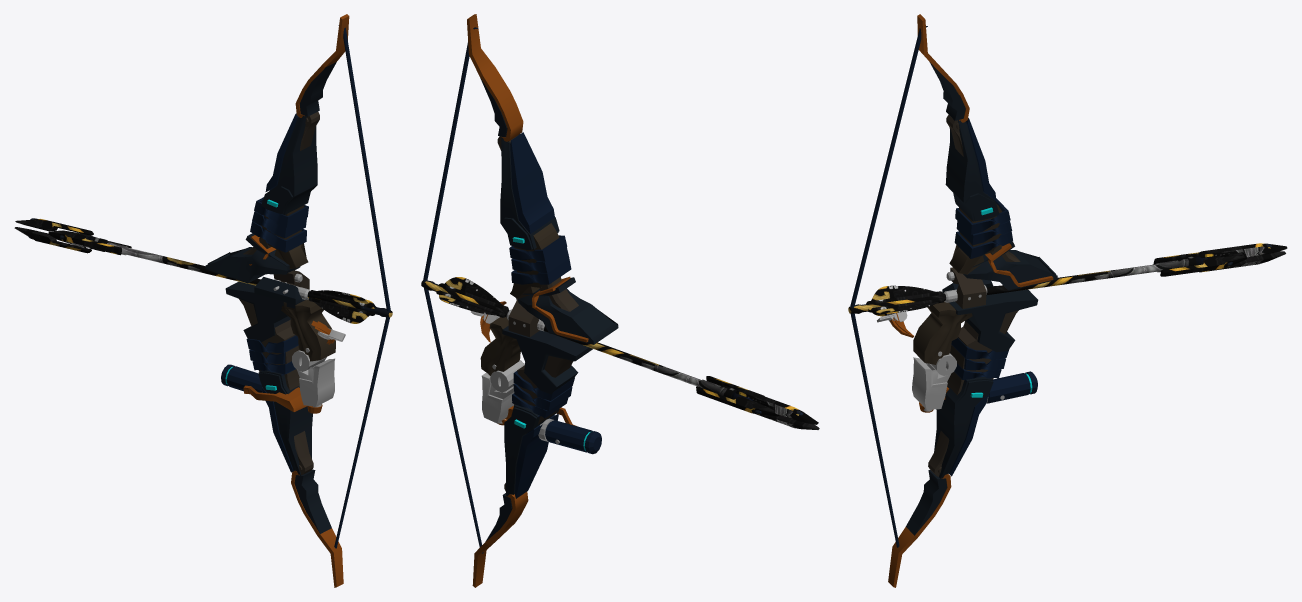
The model's file is hanzo_bow2.obj.
3 views of the same model, side by side, from view 1: azimuth 30°, elevation 25°; view 2: azimuth 210°, elevation 25°; view 3: azimuth 270°, elevation 25° (orthographic). The views are drawn at different scales.
Parts seen in each view (by area): view 1: pCube11_Untitled.029, pCube12_Untitled.004, pCube1_Untitled.010, pCylinder12_Untitled.035, pCube15_Untitled.005, Mesh_0399_Untitled.208, Mesh_0398_Untitled.293, pCube6_Untitled.022, pCube7_Untitled.008, polySurface4_Untitled.014, pCube3_Untitled.002, Mesh_0437_Untitled.426 (+7 smaller); view 2: pCube11_Untitled.029, pCube12_Untitled.004, pCube15_Untitled.005, pCube1_Untitled.010, Mesh_0398_Untitled.293, pCylinder12_Untitled.035, Mesh_0399_Untitled.208, pCube6_Untitled.022, pCylinder4_Untitled.023, pCube7_Untitled.008, pCube13_Untitled.020, Mesh_0437_Untitled.426 (+9 smaller); view 3: pCube11_Untitled.029, pCube12_Untitled.004, pCube1_Untitled.010, Mesh_0398_Untitled.293, pCylinder12_Untitled.035, Mesh_0399_Untitled.208, pCube6_Untitled.022, pCube15_Untitled.005, pCube7_Untitled.008, pCylinder4_Untitled.023, pCube3_Untitled.002, Mesh_0437_Untitled.426 (+4 smaller).
Boxes of the visible parts, box(x1,y1,x2,y2) form: pCube11_Untitled.029: box(258, 113, 317, 475); pCube12_Untitled.004: box(291, 14, 349, 587); pCube1_Untitled.010: box(225, 277, 304, 342); pCylinder12_Untitled.035: box(334, 25, 390, 548); pCube15_Untitled.005: box(205, 233, 300, 283); Mesh_0399_Untitled.208: box(14, 218, 131, 255); Mesh_0398_Untitled.293: box(92, 237, 392, 317); pCube6_Untitled.022: box(281, 299, 335, 361); pCube7_Untitled.008: box(297, 358, 334, 406); polySurface4_Untitled.014: box(243, 385, 322, 413); pCube3_Untitled.002: box(259, 319, 299, 390); Mesh_0437_Untitled.426: box(314, 290, 374, 323); pCube11_Untitled.029: box(500, 132, 559, 498); pCube12_Untitled.004: box(467, 14, 528, 587); pCube15_Untitled.005: box(517, 277, 618, 344); pCube1_Untitled.010: box(502, 326, 592, 394); Mesh_0398_Untitled.293: box(421, 280, 737, 398); pCylinder12_Untitled.035: box(423, 27, 483, 553); Mesh_0399_Untitled.208: box(696, 376, 819, 429); pCube6_Untitled.022: box(480, 317, 520, 375); pCylinder4_Untitled.023: box(538, 418, 601, 454); pCube7_Untitled.008: box(481, 372, 514, 423); pCube13_Untitled.020: box(510, 223, 559, 298); Mesh_0437_Untitled.426: box(439, 277, 502, 315); pCube11_Untitled.029: box(934, 118, 999, 478); pCube12_Untitled.004: box(888, 14, 969, 587); pCube1_Untitled.010: box(942, 279, 1038, 352); Mesh_0398_Untitled.293: box(848, 256, 1196, 313); pCylinder12_Untitled.035: box(850, 26, 927, 547); Mesh_0399_Untitled.208: box(1153, 243, 1287, 276); pCube6_Untitled.022: box(913, 301, 972, 364); pCube15_Untitled.005: box(963, 241, 1057, 290); pCube7_Untitled.008: box(912, 357, 950, 409); pCylinder4_Untitled.023: box(986, 371, 1037, 403); pCube3_Untitled.002: box(947, 321, 993, 395); Mesh_0437_Untitled.426: box(871, 285, 939, 316).
Bounding box in the file's own units: 1.03 × 3.21 × 2.2.
